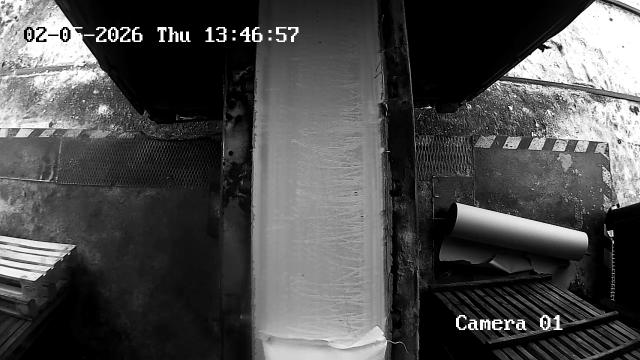bag: (260, 328, 388, 360)
